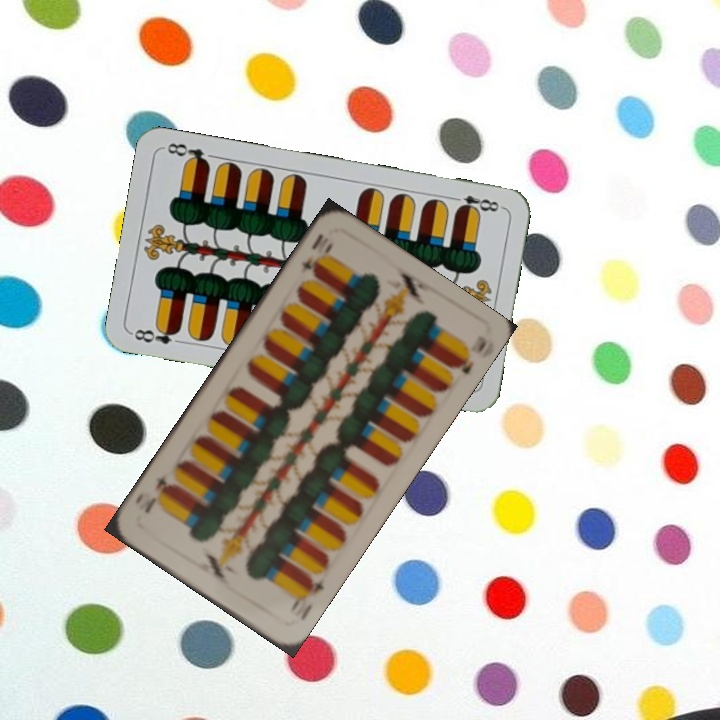E10: (286, 572, 327, 624), (296, 239, 336, 278)
E8: (446, 191, 505, 217), (128, 321, 182, 347)
